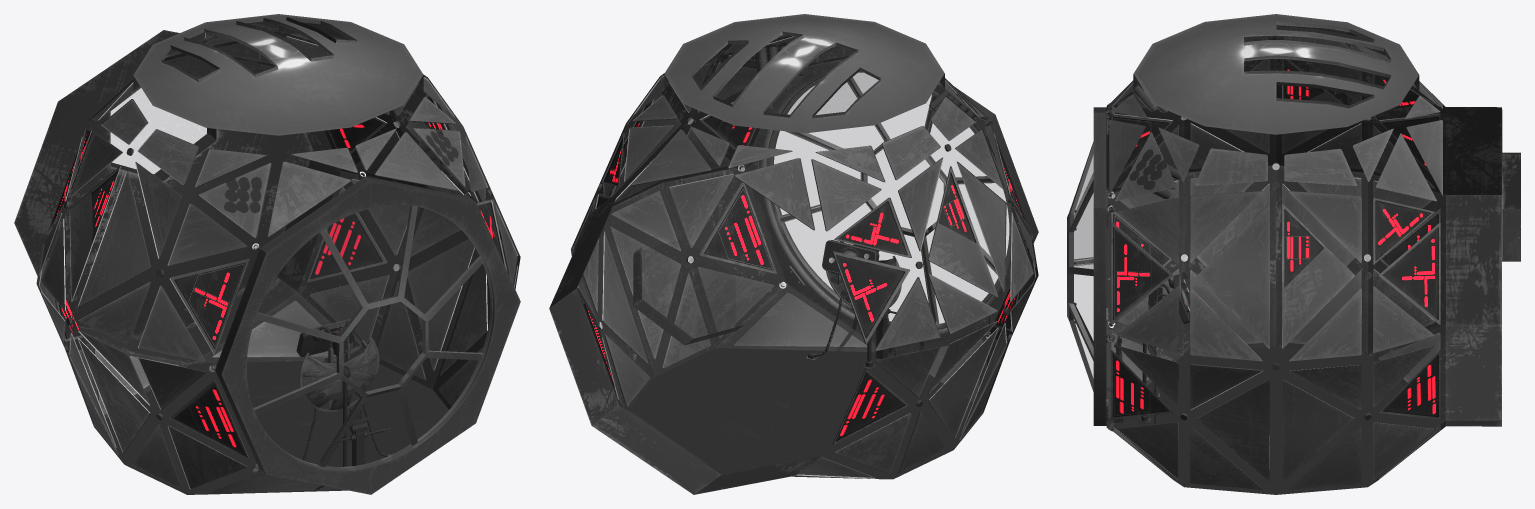
Rendered from cockpit.glb.
The picture shows the model from 3 angles, left to right: view 1: azimuth 30°, elevation 25°; view 2: azimuth 150°, elevation 25°; view 3: azimuth 270°, elevation 25°; orthographic projection. The views are drawn at different scales.
Parts seen in each view (by area): view 1: triangles, hull, window_front, hatch, canopy_brace, floor, triangles_lights, canopy_struts, detail_metal_painted_grey, window_top, window_back, detail_metal_painted_black (+2 smaller); view 2: triangles, hull, floor, hatch, triangles_lights, window_front, window_back, canopy_brace, window_top, canopy_struts, detail_metal_painted_black, canopy_struts_insets (+3 smaller); view 3: triangles, hull, hatch, triangles_lights, floor, canopy_brace, window_front, canopy_struts, window_top, detail_metal_painted_black, sensors, bolts_hull.
Boxes of the visible parts, x1,y1,x2,y2 form: triangles: [39, 33, 518, 494]; hull: [14, 21, 520, 494]; window_front: [258, 205, 480, 467]; hatch: [133, 14, 423, 135]; canopy_brace: [215, 177, 520, 494]; floor: [94, 361, 448, 494]; triangles_lights: [51, 96, 504, 455]; canopy_struts: [253, 205, 492, 469]; detail_metal_painted_grey: [299, 337, 379, 412]; window_top: [165, 22, 328, 78]; window_back: [111, 89, 206, 173]; detail_metal_painted_black: [326, 330, 390, 466]; triangles: [573, 34, 1036, 478]; hull: [549, 35, 1038, 494]; floor: [629, 348, 982, 479]; hatch: [664, 14, 944, 133]; triangles_lights: [584, 103, 1024, 441]; window_front: [773, 73, 1008, 322]; window_back: [634, 239, 734, 344]; canopy_brace: [744, 58, 1038, 352]; window_top: [716, 35, 877, 114]; canopy_struts: [767, 70, 1011, 328]; detail_metal_painted_black: [823, 241, 896, 369]; canopy_struts_insets: [780, 80, 995, 322]; triangles: [1109, 36, 1442, 489]; hull: [1106, 25, 1520, 487]; hatch: [1133, 14, 1418, 134]; triangles_lights: [1113, 60, 1438, 417]; floor: [1106, 347, 1445, 494]; canopy_brace: [1093, 107, 1106, 425]; window_front: [1069, 146, 1093, 374]; canopy_struts: [1067, 141, 1093, 391]; window_top: [1245, 26, 1388, 85]; detail_metal_painted_black: [1114, 278, 1189, 423]; sensors: [1132, 83, 1180, 199]; bolts_hull: [1180, 116, 1371, 420].
Size of the model in its own units: 2.56 by 2.2 by 2.42.
Materials: 22 (22 with a texture image).
